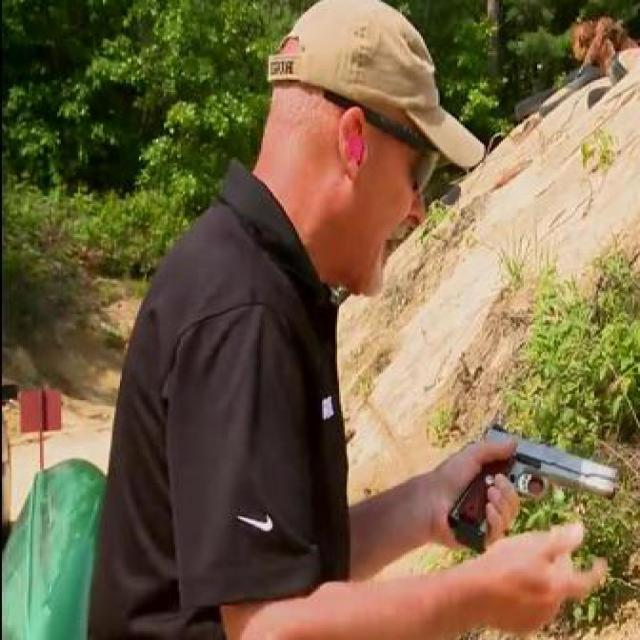weapon: (446, 422, 617, 554)
